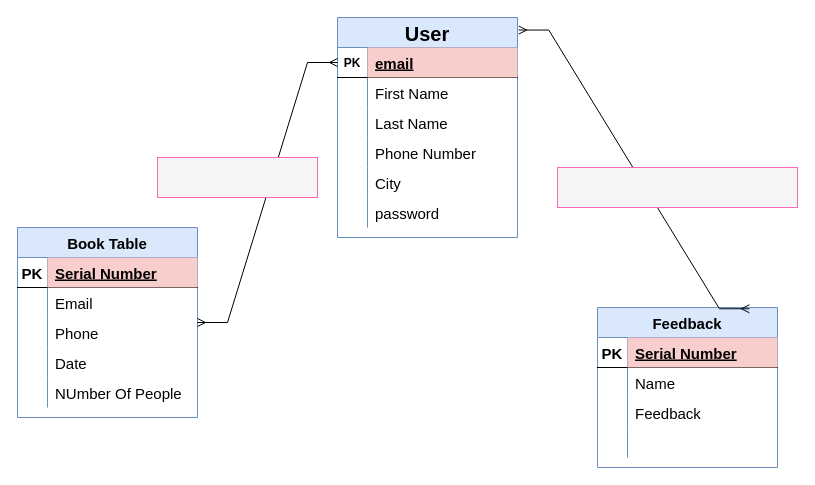
The diagram is 815 pixels wide and 485 high, and some of its shapes have lost their labels. The centre of each missing label's shape, as x and y in pixels:
can Book: point 237,177
can write feedback: point 677,187
